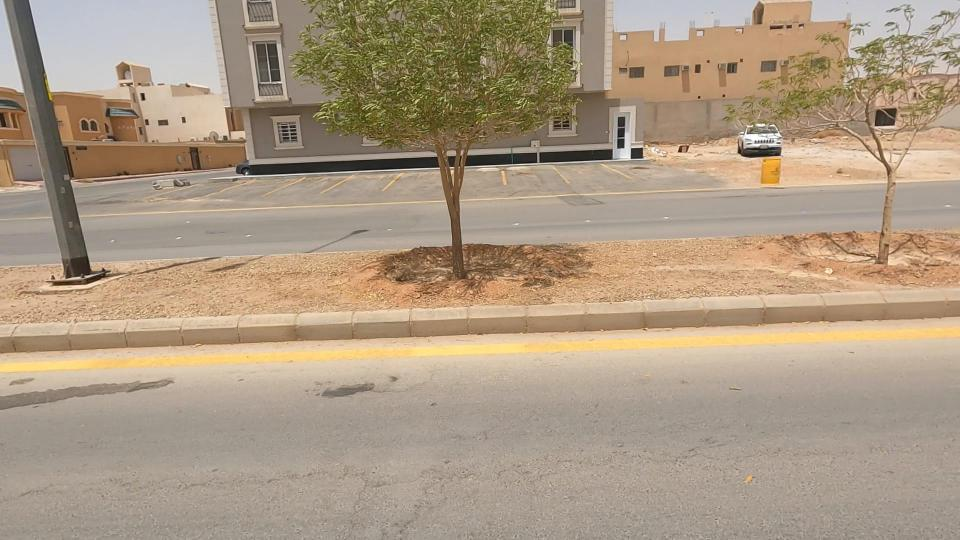GARBAGE: (652, 118, 713, 173), (636, 129, 664, 173)
